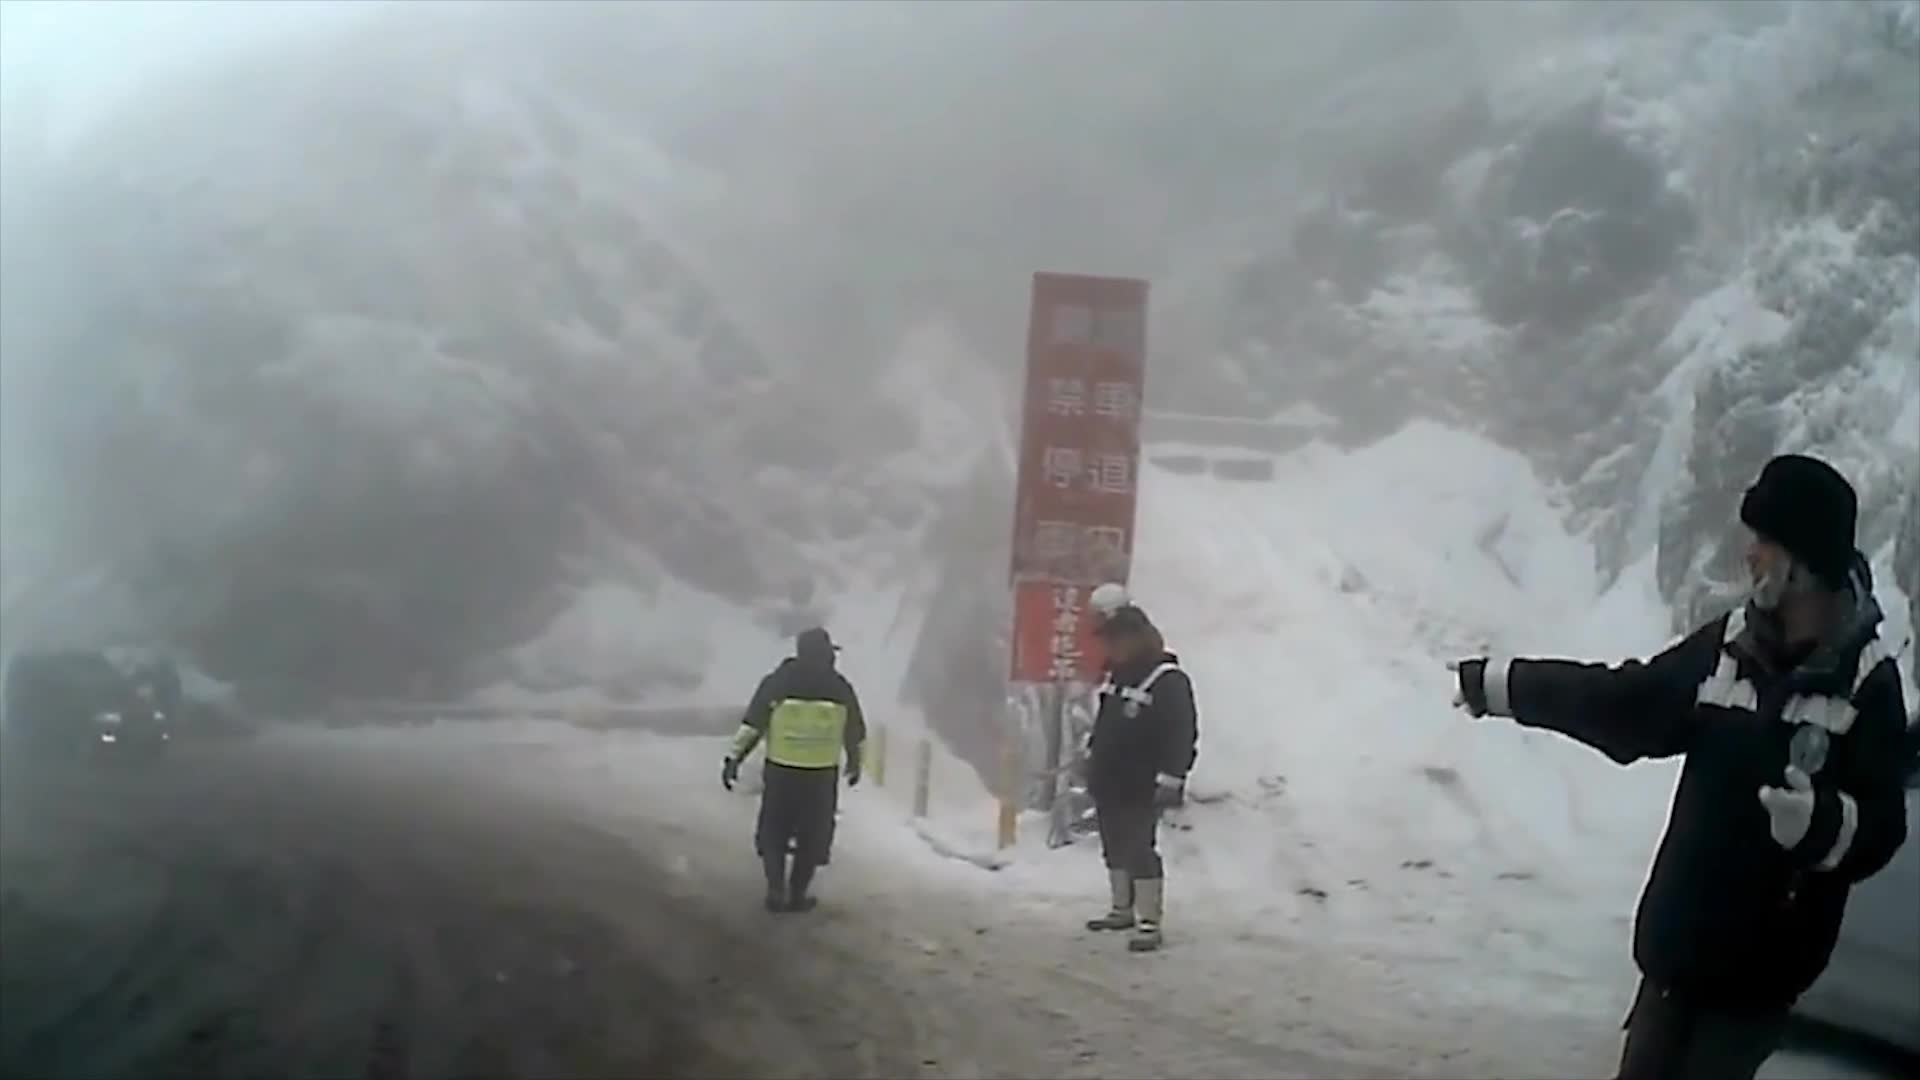pedestrian: (1435, 454, 1895, 1079), (1083, 609, 1203, 953), (722, 638, 867, 917)
vehicle: (1700, 707, 1919, 1079), (5, 650, 173, 770)
